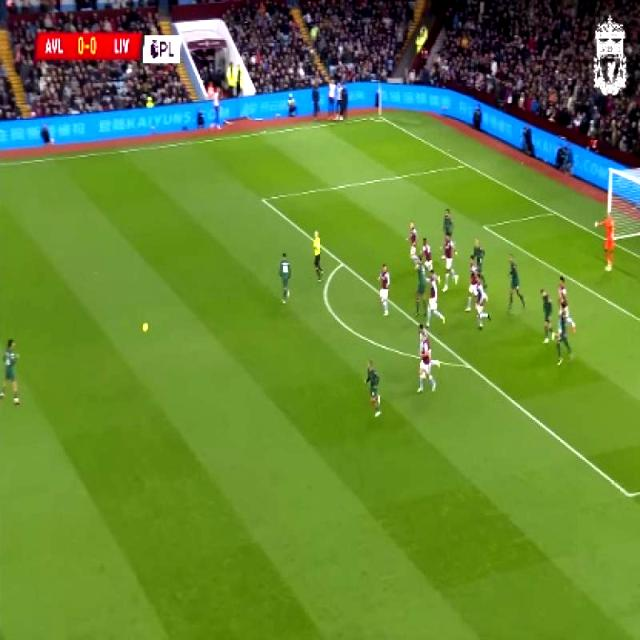bigarea_bottom_inner: (617, 476, 640, 509)
bigarea_top_inner: (254, 189, 269, 208)
bigarea_top_outter: (458, 156, 474, 172)
bottom_arc_area_intersection: (458, 352, 477, 376)
corner: (368, 109, 386, 123)
smallarea_top_inner: (476, 215, 492, 235)
smallarea_top_outter: (546, 202, 562, 222)
top_arc_area_intersection: (334, 252, 349, 272)
